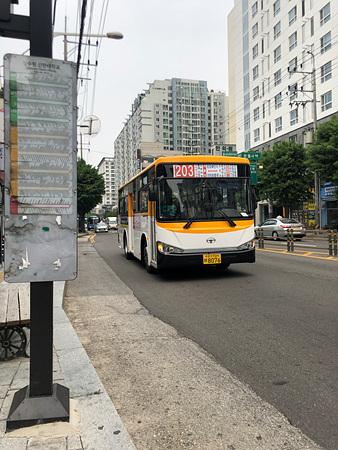bnum: (174, 163, 193, 176)
